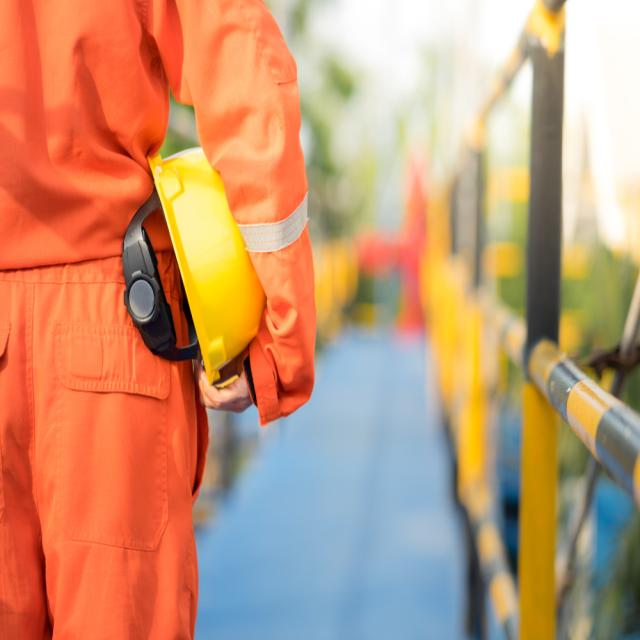helmet: (143, 142, 271, 381)
